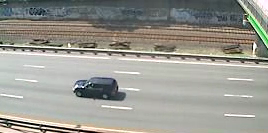car: (71, 75, 123, 102)
